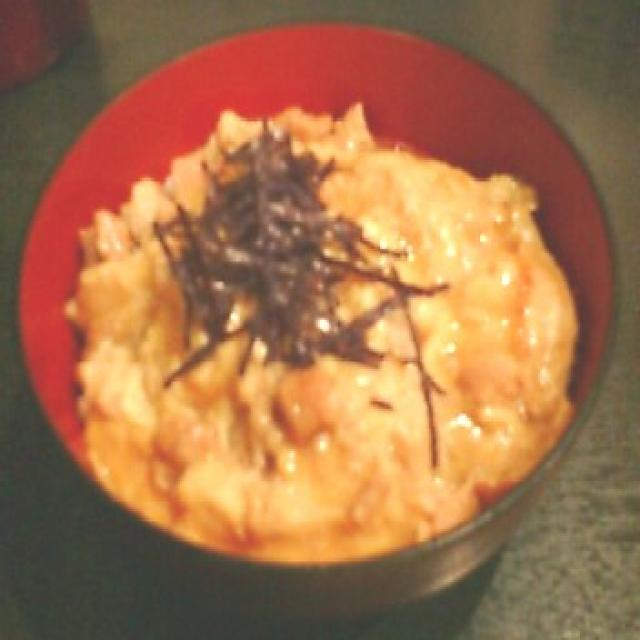米饭主食: (1, 7, 624, 636)
